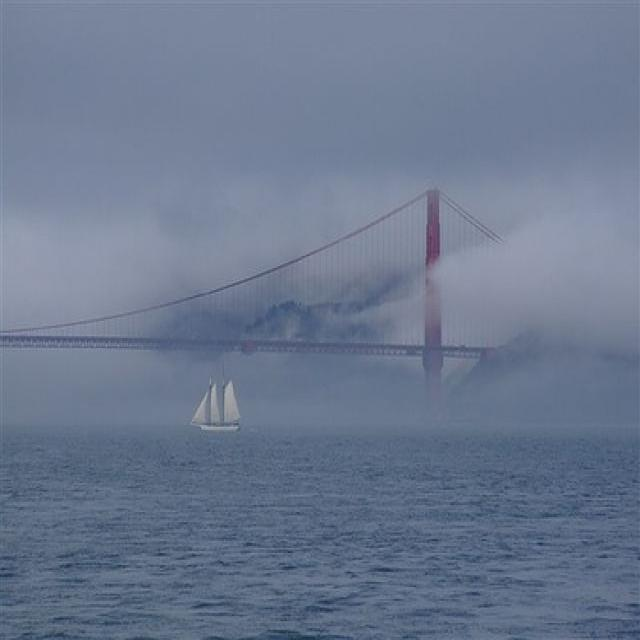boat: (191, 374, 243, 433)
